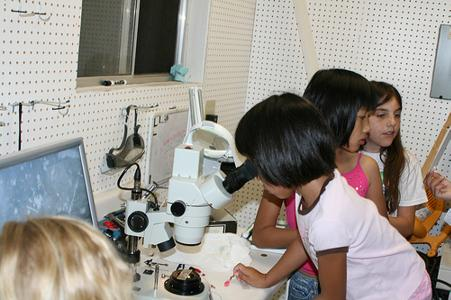person: (234, 95, 432, 300)
